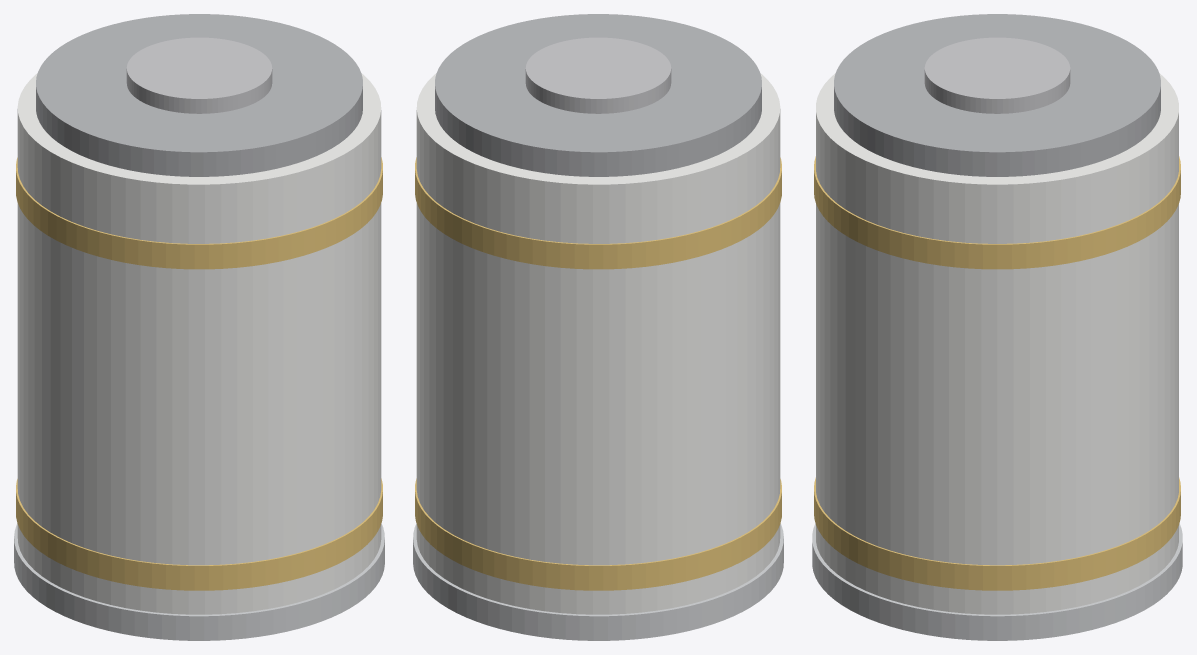
Rendered from robo03_deployable_boom_xs.glb.
The picture shows the model from 3 angles, left to right: view 1: azimuth 30°, elevation 25°; view 2: azimuth 150°, elevation 25°; view 3: azimuth 270°, elevation 25°; orthographic projection.
Parts seen in each view (by area): view 1: canister, boom_lid, canister_bands, base, boom_tip; view 2: canister, boom_lid, canister_bands, base, boom_tip; view 3: canister, boom_lid, canister_bands, base, boom_tip.
Boxes of the visible parts, x1=… form: canister: x1=17, y1=73, x2=381, y2=614; boom_lid: x1=36, y1=14, x2=362, y2=176; canister_bands: x1=16, y1=157, x2=382, y2=590; base: x1=14, y1=523, x2=384, y2=640; boom_tip: x1=126, y1=37, x2=272, y2=113; canister: x1=416, y1=73, x2=780, y2=614; boom_lid: x1=435, y1=14, x2=761, y2=176; canister_bands: x1=415, y1=157, x2=781, y2=590; base: x1=413, y1=523, x2=783, y2=640; boom_tip: x1=525, y1=37, x2=671, y2=113; canister: x1=816, y1=73, x2=1178, y2=614; boom_lid: x1=834, y1=14, x2=1160, y2=176; canister_bands: x1=814, y1=156, x2=1180, y2=590; base: x1=812, y1=523, x2=1182, y2=640; boom_tip: x1=924, y1=37, x2=1070, y2=113.
Size of the model in its own units: 0.408 by 0.6 by 0.4077.
